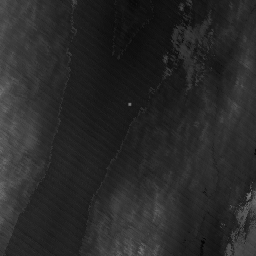Target: (126, 102, 132, 108)
